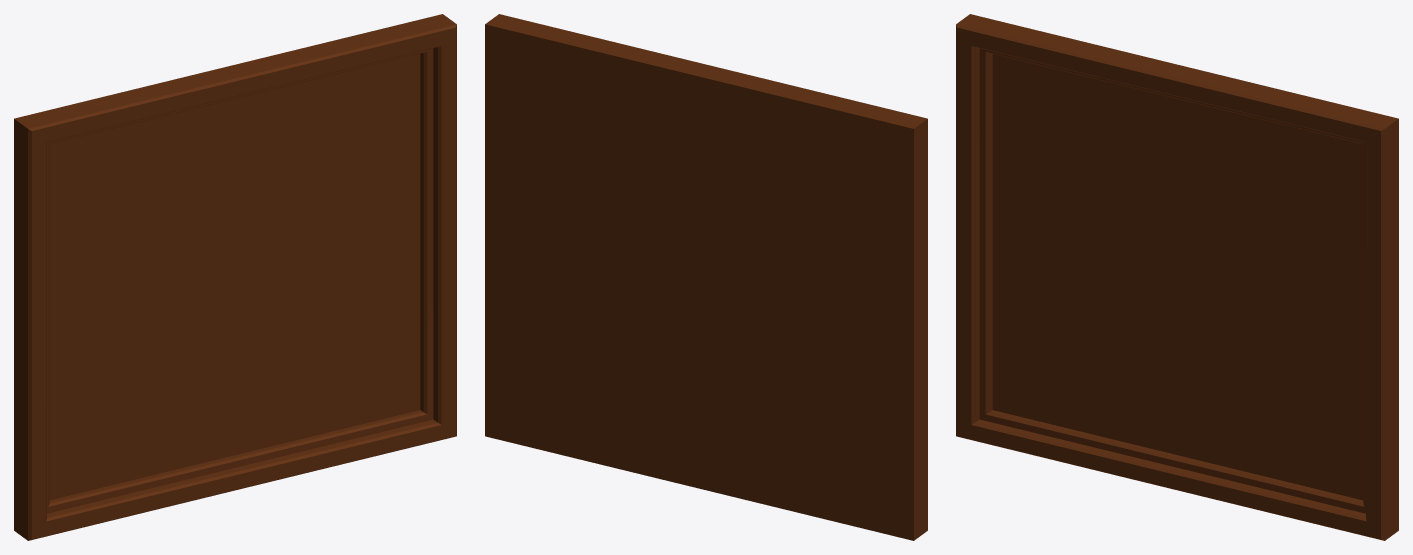
The model's file is picture frame anijmals.fbx.
The picture shows the model from 3 angles, left to right: view 1: azimuth 30°, elevation 25°; view 2: azimuth 150°, elevation 25°; view 3: azimuth 330°, elevation 25°; orthographic projection.
Parts seen in each view (by area): view 1: picture_frame_dog; view 2: picture_frame_dog; view 3: picture_frame_dog.
Part boxes in pixels (box(x1,y1,x2,y2)): picture_frame_dog: box(14, 14, 456, 540); picture_frame_dog: box(485, 14, 927, 540); picture_frame_dog: box(956, 14, 1398, 540).
Bounding box in the file's own units: 0.7527 × 0.6911 × 0.047.
